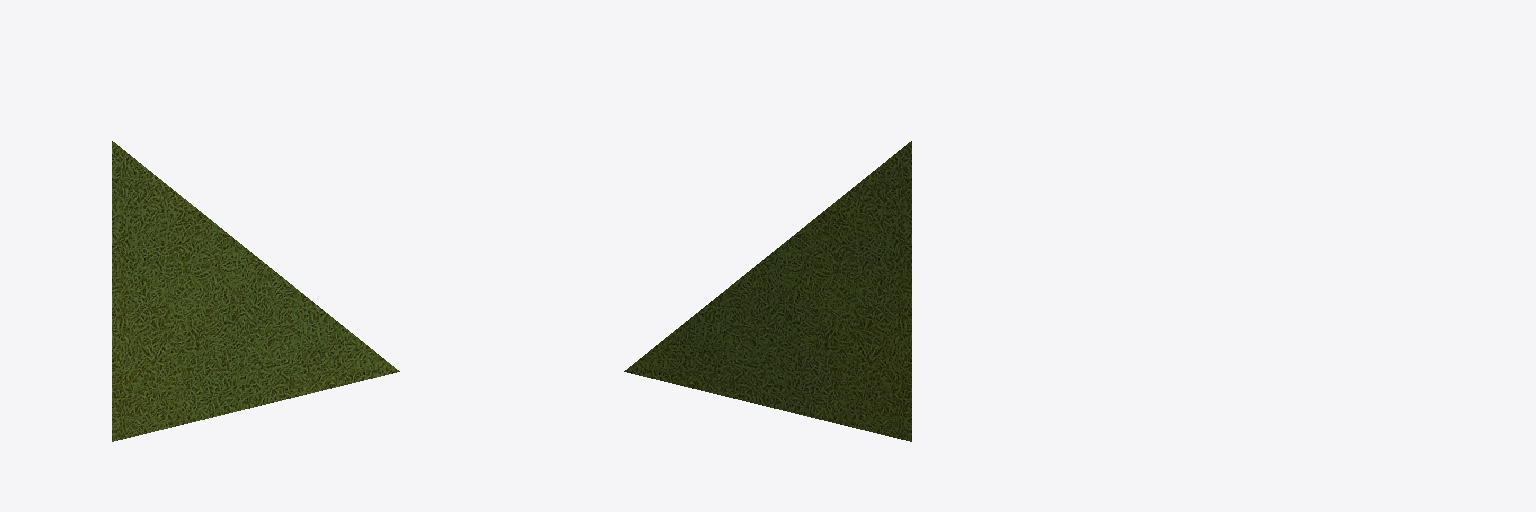
3 views of the same model, side by side, from view 1: azimuth 30°, elevation 25°; view 2: azimuth 150°, elevation 25°; view 3: azimuth 270°, elevation 25° (orthographic).
Parts seen in each view (by area): view 1: Plane; view 2: Plane; view 3: none.
Boxes of the visible parts, x1,y1,x2,y2 form: Plane: [112, 141, 399, 441]; Plane: [624, 141, 911, 441].
Size of the model in its own units: 1 by 1 by 0.
1 materials, 1 textured.